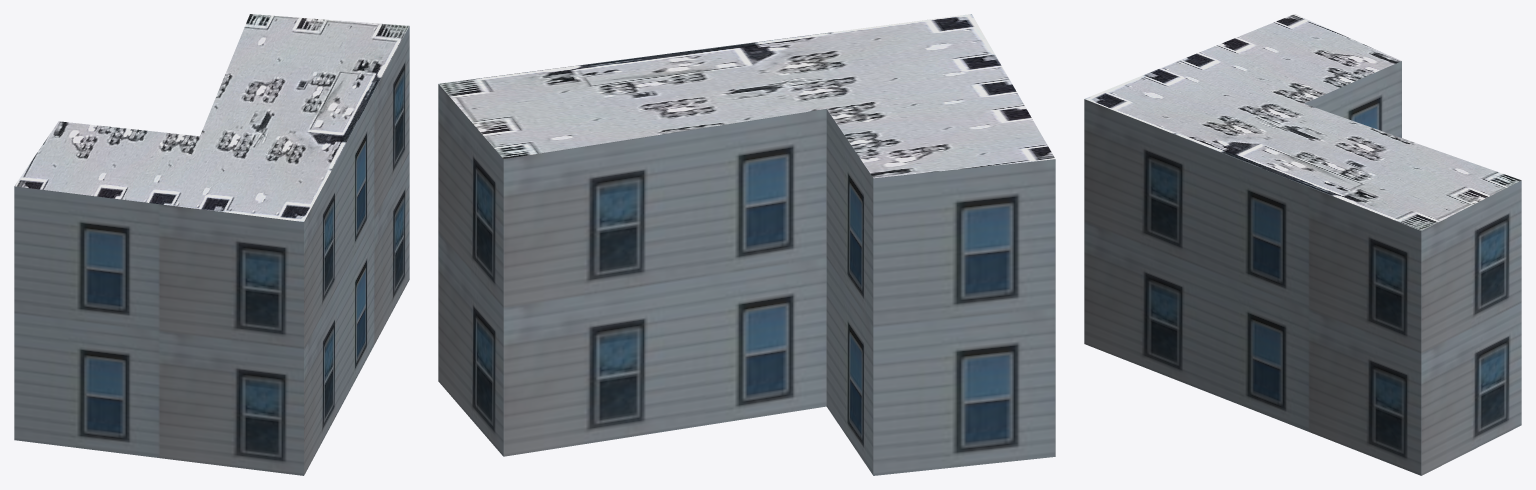
File: ResTex__2308.fbx
3 views of the same model, side by side, from view 1: azimuth 30°, elevation 25°; view 2: azimuth 150°, elevation 25°; view 3: azimuth 270°, elevation 25° (orthographic). The views are drawn at different scales.
Parts seen in each view (by area): view 1: CityEngineMaterial_18_m, CityEngineMaterial_m; view 2: CityEngineMaterial_18_m, CityEngineMaterial_m; view 3: CityEngineMaterial_18_m, CityEngineMaterial_m.
Part boxes in pixels (x1,y1,x2,y2): CityEngineMaterial_18_m: [14, 26, 409, 475]; CityEngineMaterial_m: [14, 14, 409, 221]; CityEngineMaterial_18_m: [438, 84, 1055, 475]; CityEngineMaterial_m: [438, 14, 1055, 178]; CityEngineMaterial_18_m: [1084, 61, 1521, 475]; CityEngineMaterial_m: [1085, 14, 1521, 230].
Bounding box in the file's own units: 11.4 × 6 × 9.71.
2 materials, 2 textured.
